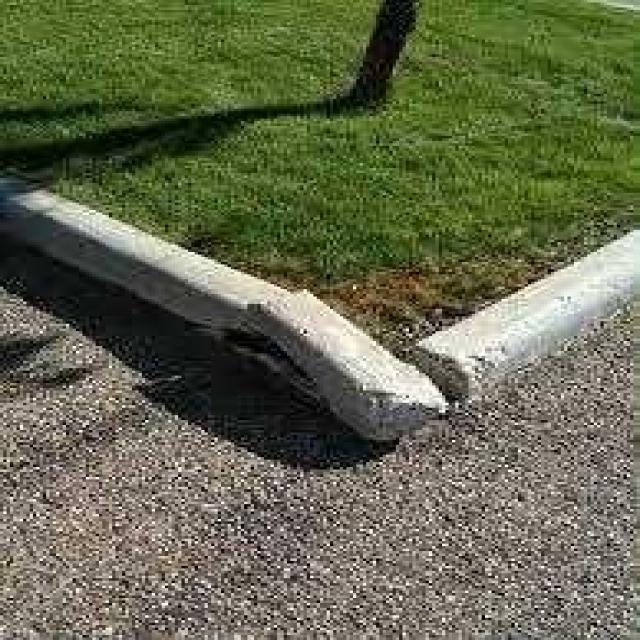bump: (29, 183, 444, 439), (451, 222, 639, 412)
